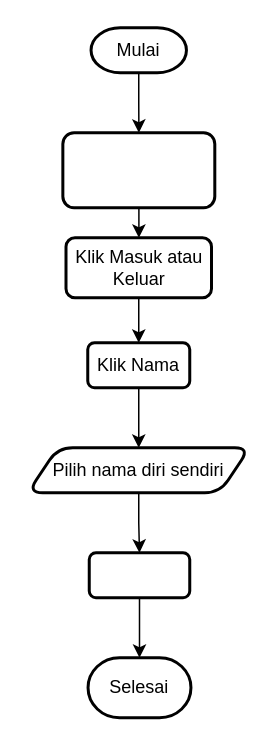
Some shapes in this 276 by 744 pixel diagram are drawn without their labels. The box of each missing label's shape, as (x1, y1, x2, y2) in pixels:
Klik Absensi sesuai dengan jabatan: (61, 130, 216, 208)
Klik Submit: (87, 550, 190, 598)
